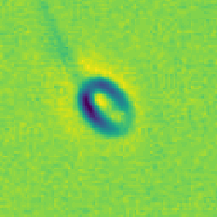normal: (29, 1, 86, 82)
